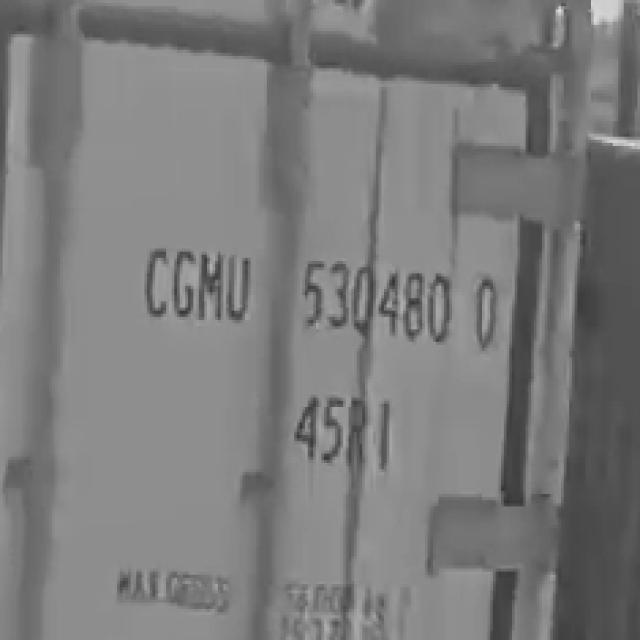dv: (463, 269, 499, 356)
owner: (128, 223, 260, 332)
serial: (301, 243, 454, 351)
size: (272, 378, 404, 481)
